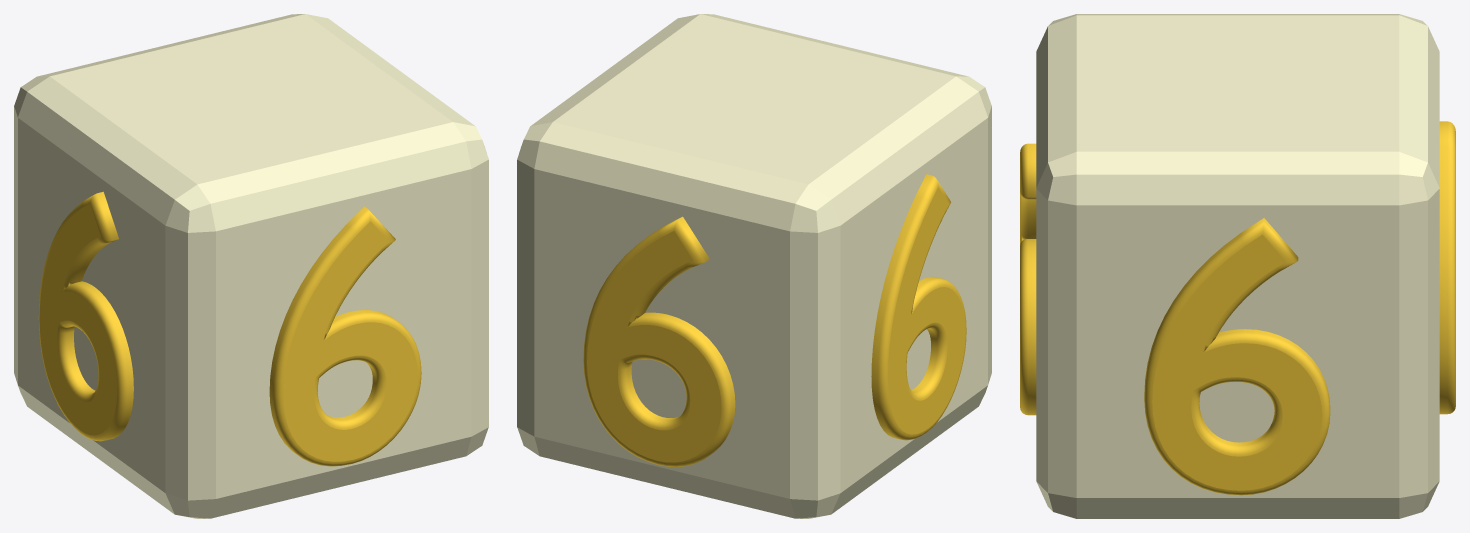
3 renders of one model, left to right at view 1: azimuth 30°, elevation 25°; view 2: azimuth 150°, elevation 25°; view 3: azimuth 270°, elevation 25°, orthographic. The views are drawn at different scales.
Visible parts, largest first — view 1: 6; view 2: 6; view 3: 6.
Part boxes in pixels (x1=…): 6: x1=14, y1=14, x2=488, y2=518; 6: x1=517, y1=14, x2=991, y2=518; 6: x1=1020, y1=14, x2=1455, y2=518.
Bounding box in the file's own units: 216 × 200 × 216.
